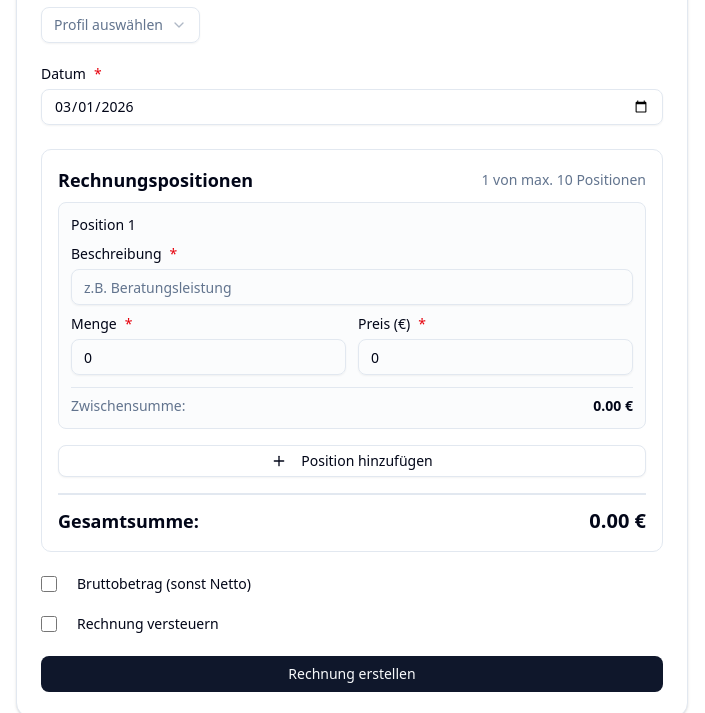
Test: InvoiceForm › kann Positionen löschen wenn mehr als eine vorhanden
The width and height of the screenshot is (705, 713).
(page scrolled)
# Füge zweite Position hinzu
Click the button "Position hinzufügen": click(352, 461) [58,445,646,477]
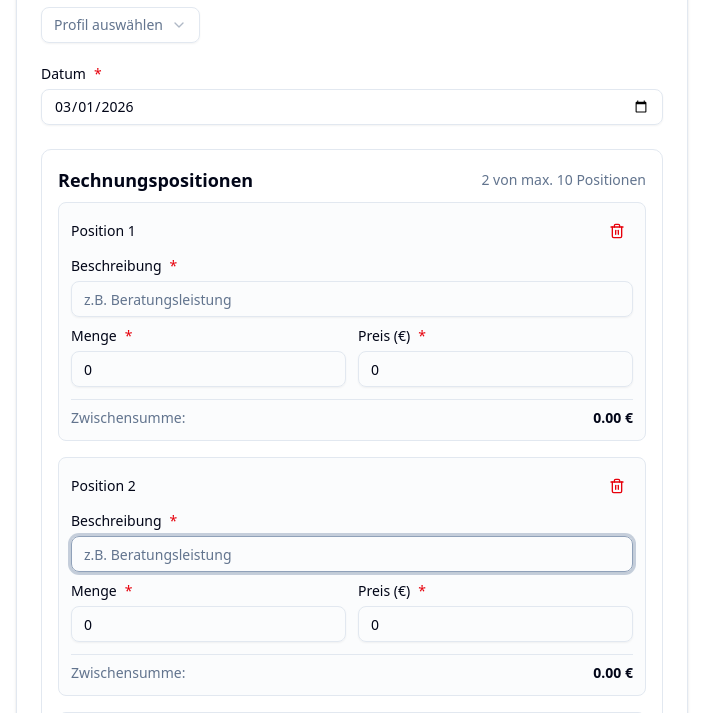
Now the text "Position 2" is shown, box [71,476,136,496]
# Klicke ersten Lösch-Button
Click the 1st button: click(617, 231) [601,215,633,247]
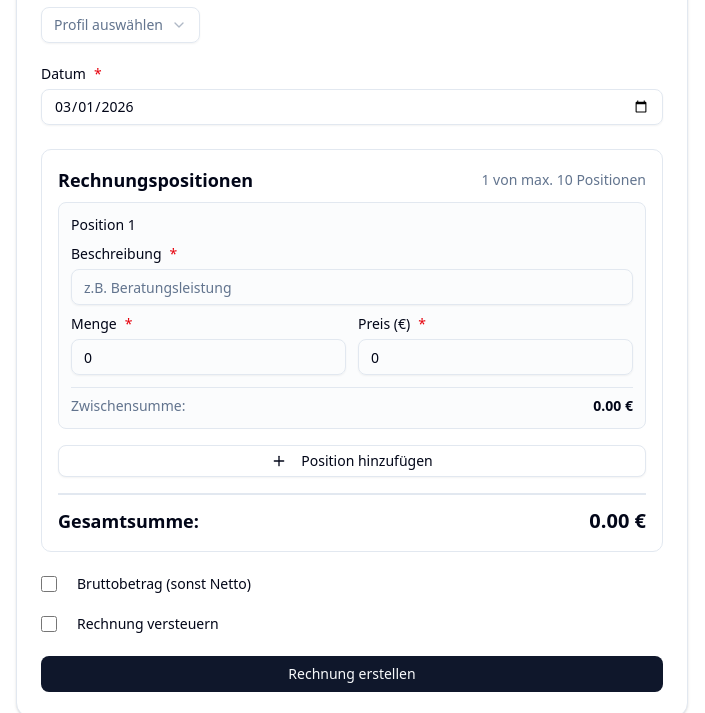
Now the text "1 von max. 10 Positionen" is shown, box [482,170,646,190]
